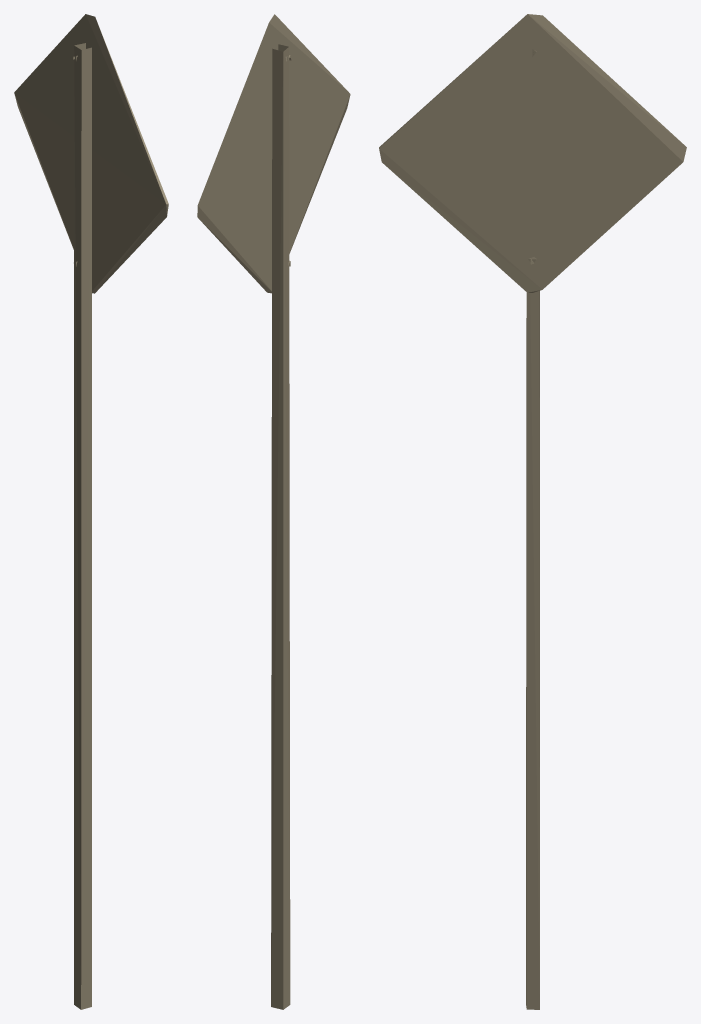
The model's file is sign-deer.lod2.glb.
The picture shows the model from 3 angles, left to right: view 1: azimuth 30°, elevation 25°; view 2: azimuth 150°, elevation 25°; view 3: azimuth 270°, elevation 25°; orthographic projection.
Visible parts, largest first — view 1: olen_LOW_POLY_sign_0; view 2: olen_LOW_POLY_sign_0; view 3: olen_LOW_POLY_sign_0.
Part boxes in pixels (left/top/right/bottom): olen_LOW_POLY_sign_0: left=14, top=14, right=168, bottom=1009; olen_LOW_POLY_sign_0: left=197, top=14, right=350, bottom=1009; olen_LOW_POLY_sign_0: left=379, top=14, right=686, bottom=1009.
Bounding box in the file's own units: 0.0593 × 2.6 × 0.7265.
